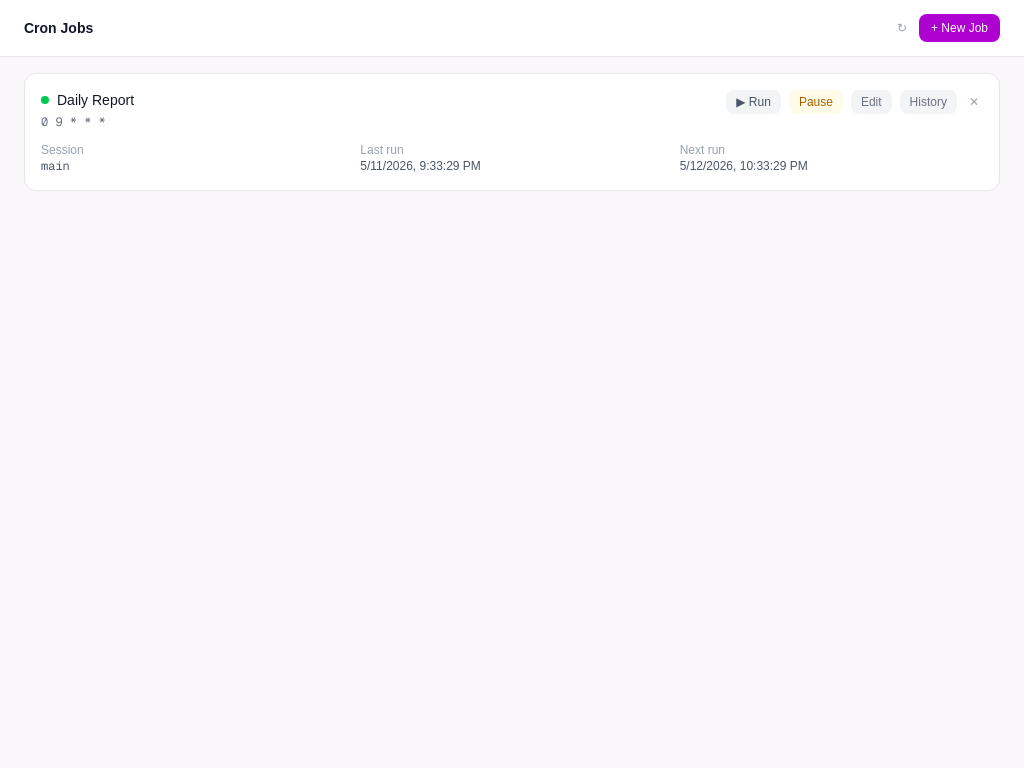
Scenario: CronsPanel › clicking "Add Cron" or "+ New" opens create modal
This screenshot has width=1024, height=768.
Check: the text "Daily Report" is shown, box [57,90,134,110]
Click the button "+ New Job" at (960, 28), box [919,14,1000,42]
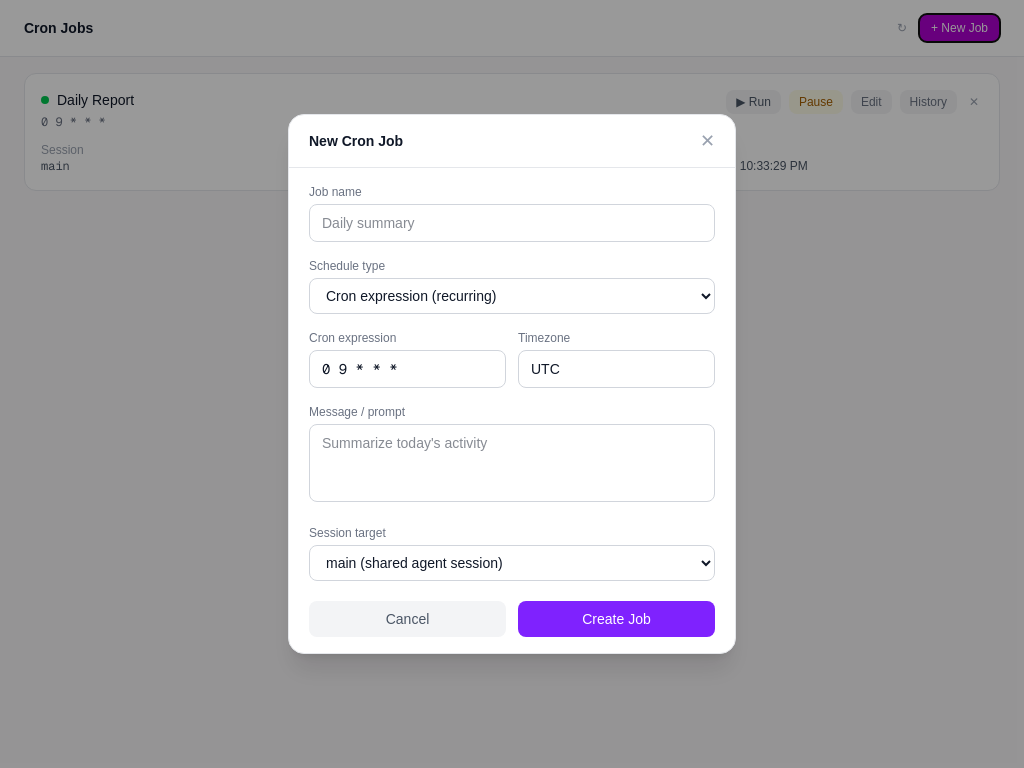
Check: the text "Schedule type" is shown, box [309,259,385,273]
